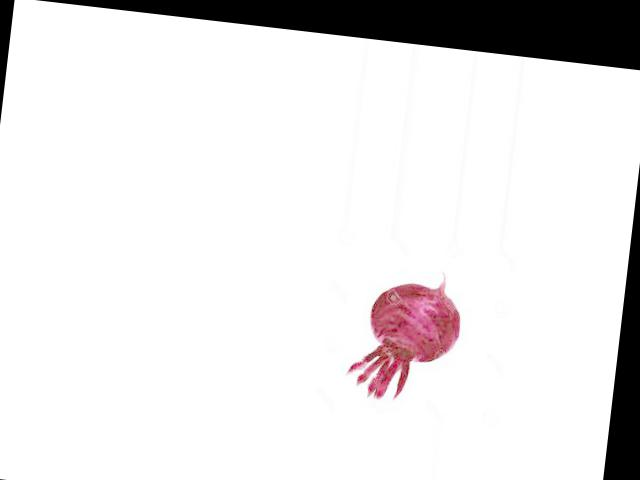beet: (344, 261, 467, 407)
